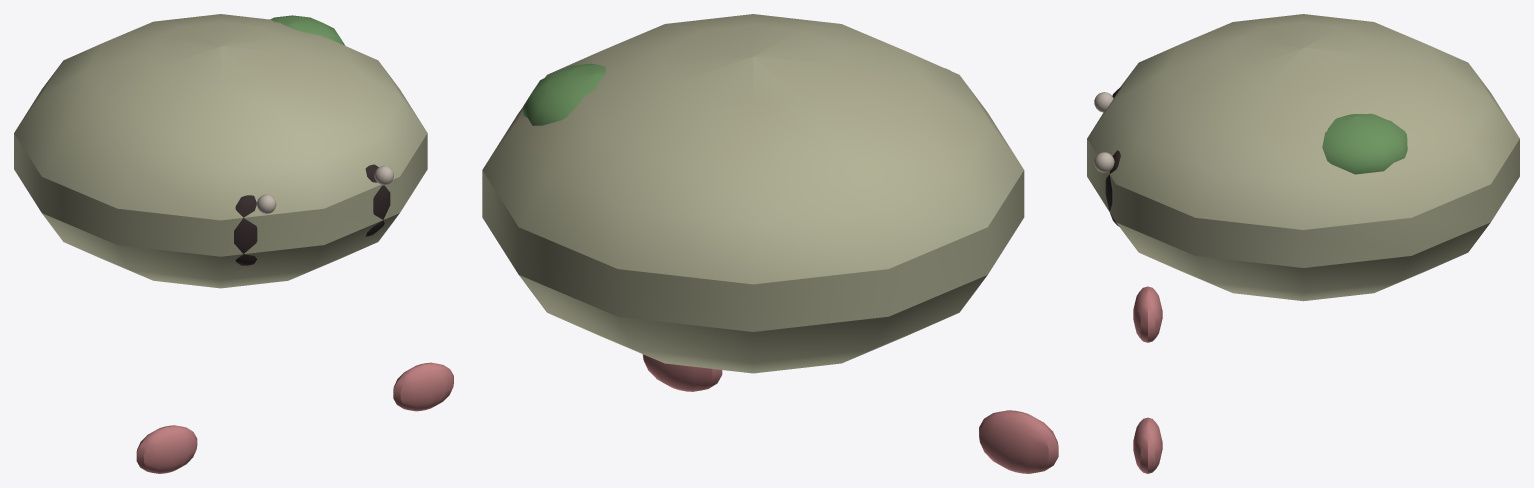
File: pce4dc924.glb
The picture shows the model from 3 angles, left to right: view 1: azimuth 30°, elevation 25°; view 2: azimuth 150°, elevation 25°; view 3: azimuth 270°, elevation 25°; orthographic projection. The views are drawn at different scales.
Visible parts, largest first — view 1: pet_pce4dc924; view 2: pet_pce4dc924; view 3: pet_pce4dc924.
Part boxes in pixels (x1,y1,x2,y2): pet_pce4dc924: (14,14,453,473); pet_pce4dc924: (482,14,1058,473); pet_pce4dc924: (1087,14,1519,473).
Bounding box in the file's own units: 0.3348 × 0.3037 × 0.3348.
